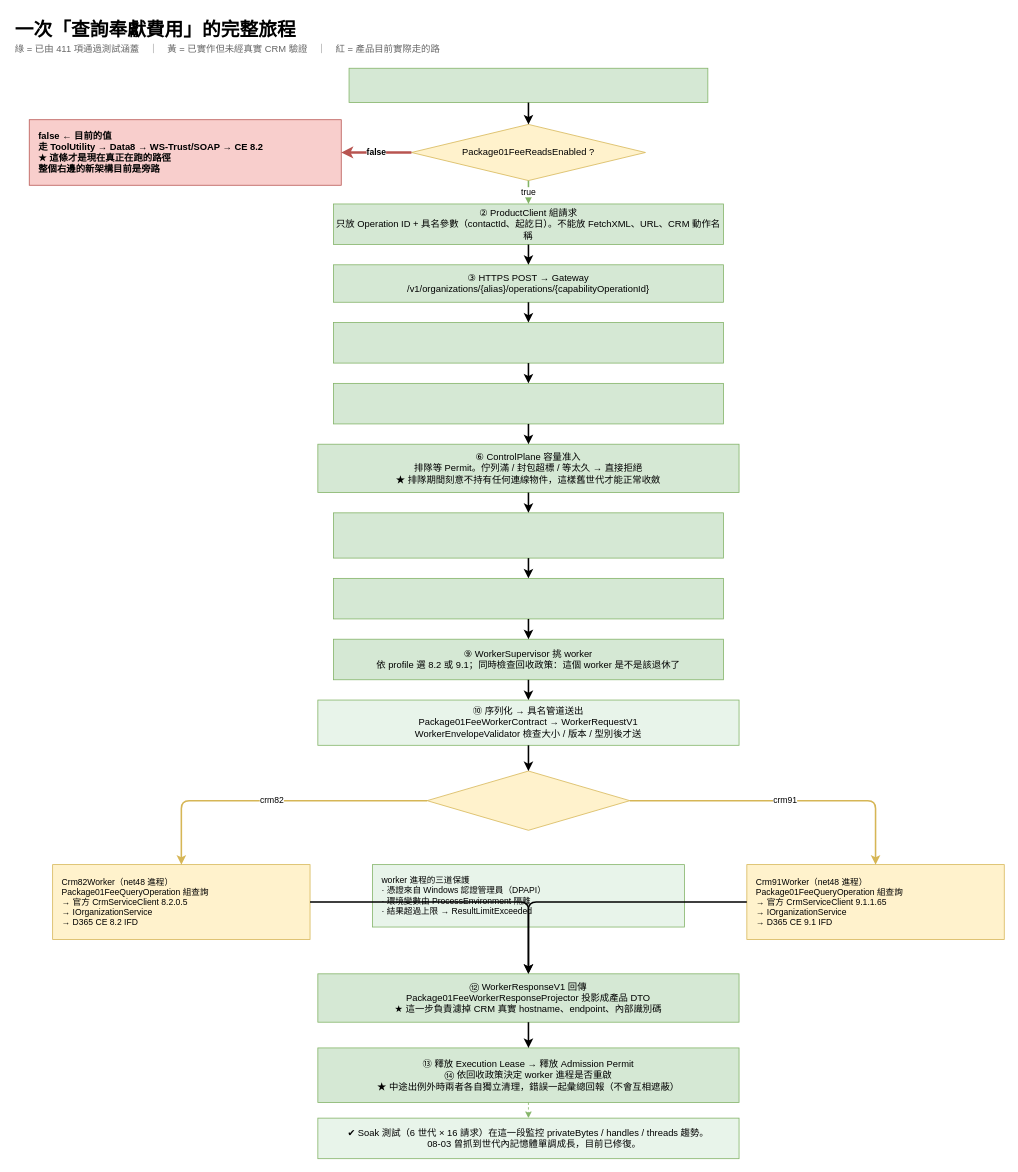
The diagram is 1018 pixels wide and 1172 high, and some of its shapes have lost their labels. Here are the shapes that lost their labels. From the top down, the centre of each, then its label:
At point (528, 85): "① 使用者在 ChurchReport 點開「奉獻收費清單」".
At point (528, 342): "④ Windows Negotiate 驗證 未通過 → 401。這一關在讀請求 body 之前就擋掉，避免無謂的解析成本".
At point (528, 403): "⑤ WorkloadBindingSet 授權 這個 Windows 身分能不能用這個 alias、能不能跑這個 operation → 否則 403".
At point (528, 535): "⑦ 取得 Host Slot 租約 確保「所有主機加總」不超過該組織的總併發上限 ✔ SQL 持久化版本 8 項 live 測試已通過".
At point (528, 598): "⑧ 解析「當下」的 Active Profile 世代 → 取得 Execution Lease 注意是排隊完才解析，所以換設定期間排隊的工作會用到新世代".
At point (528, 800): "⑪ 進程邊界 （net10 → net48）".
